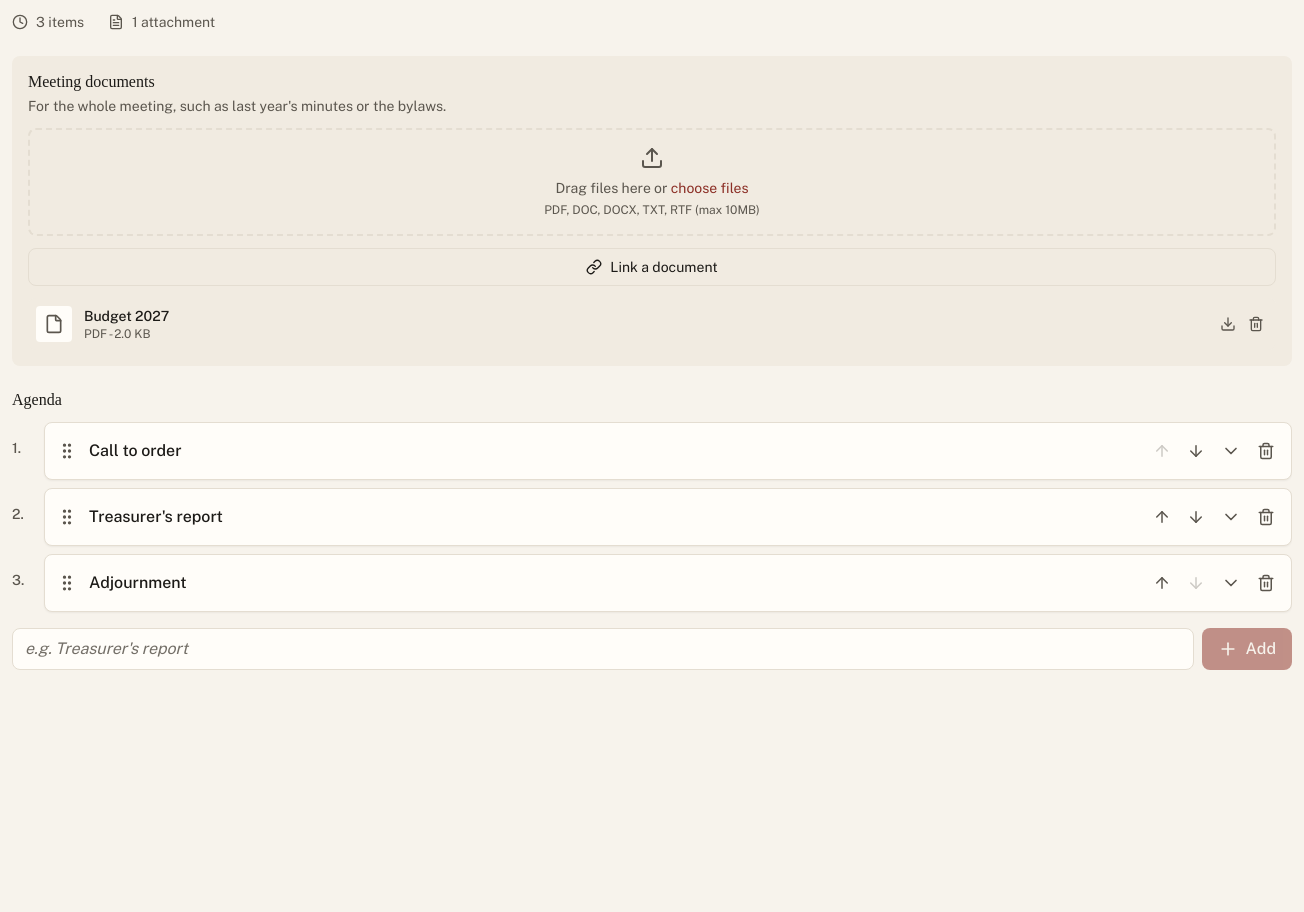
PacketBuilder › puts back only the refused move, keeping a rename saved meanwhile
Click the button named "Move Adjournment up": (1162, 583) x1=1149 y1=570 x2=1175 y2=596
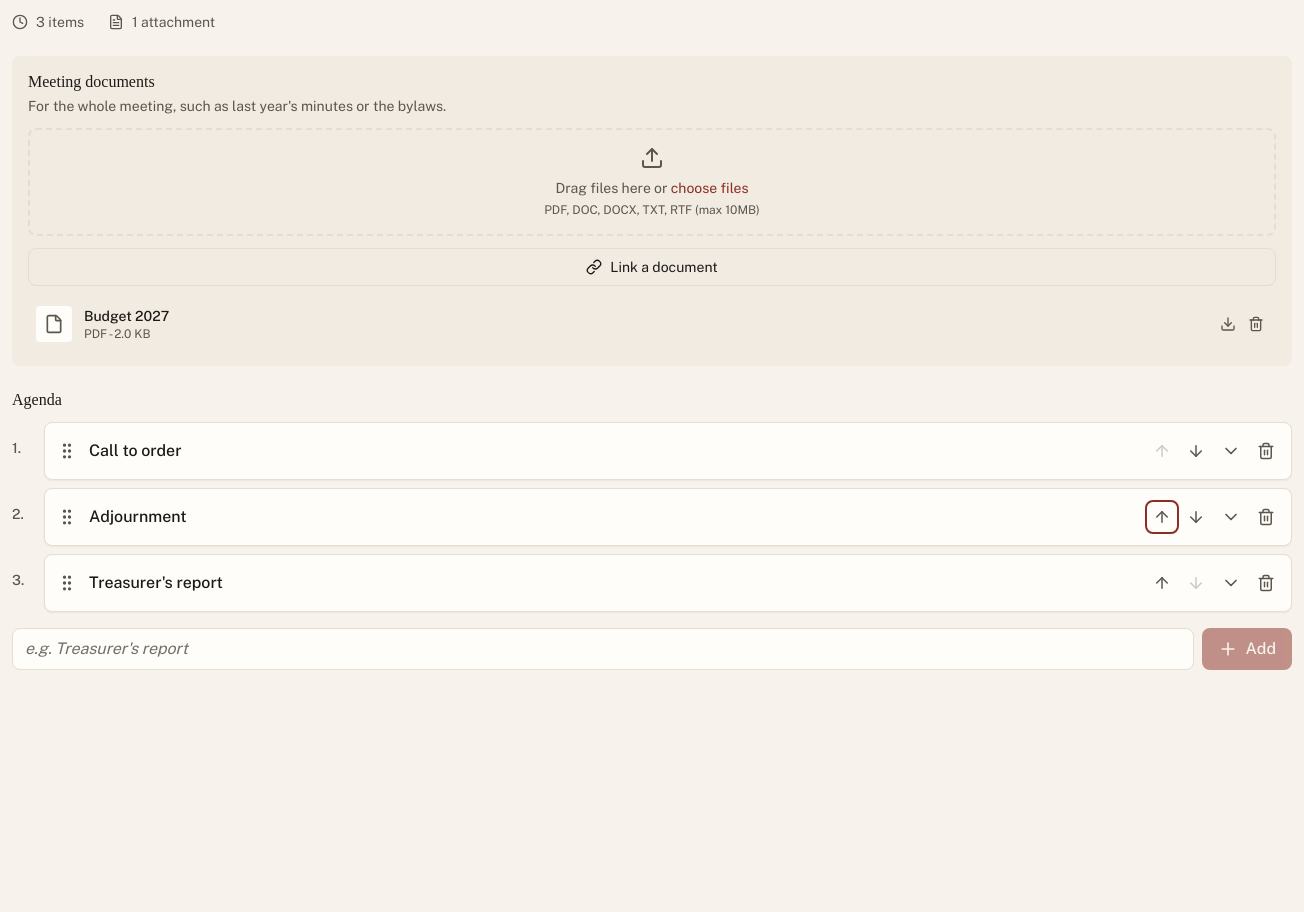
Replace the text in the field named "Agenda item 1" with "Opening": (609, 451) x1=85 y1=435 x2=1133 y2=467
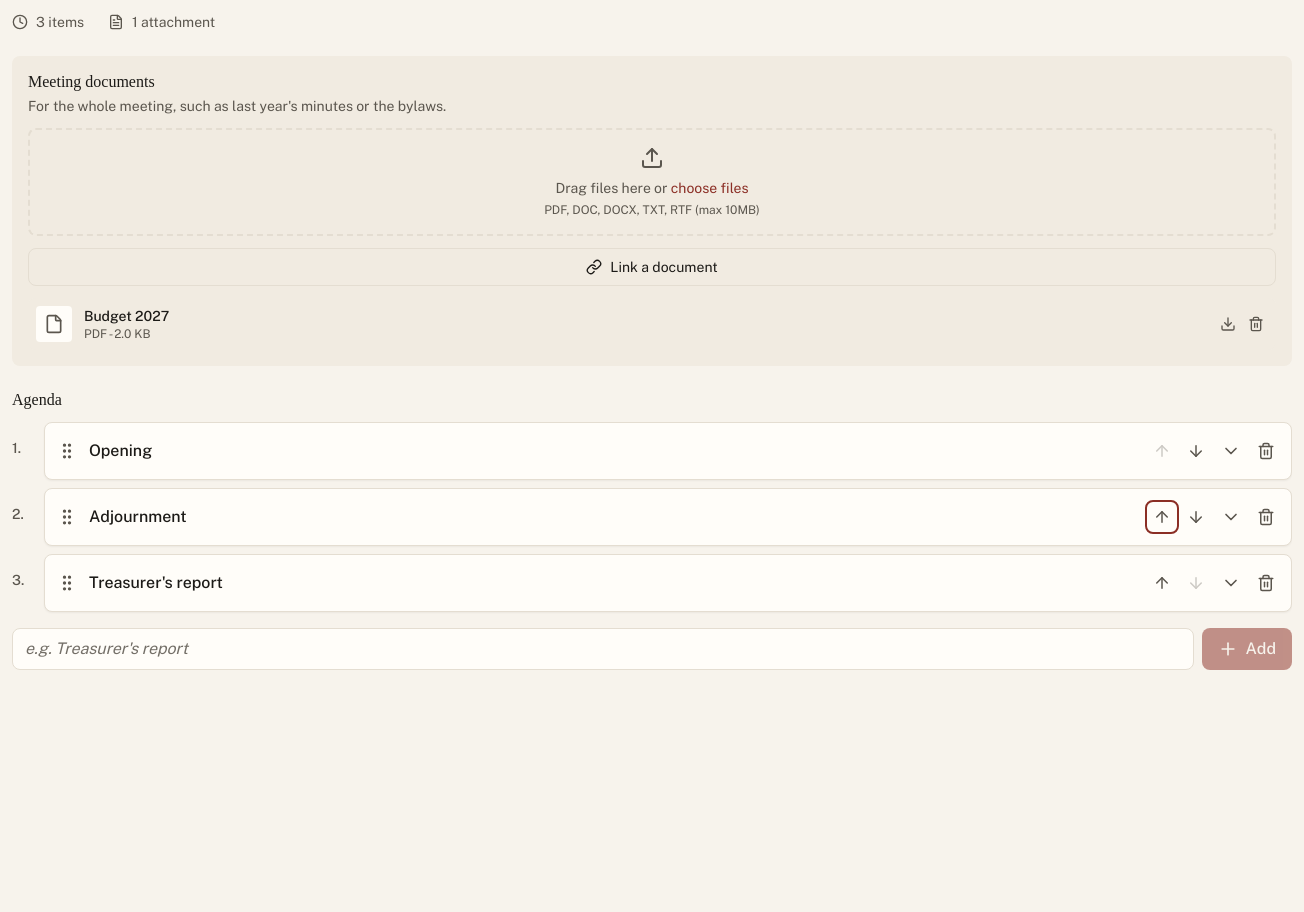
Leave the field named "Agenda item 1", box x1=85 y1=435 x2=1133 y2=467
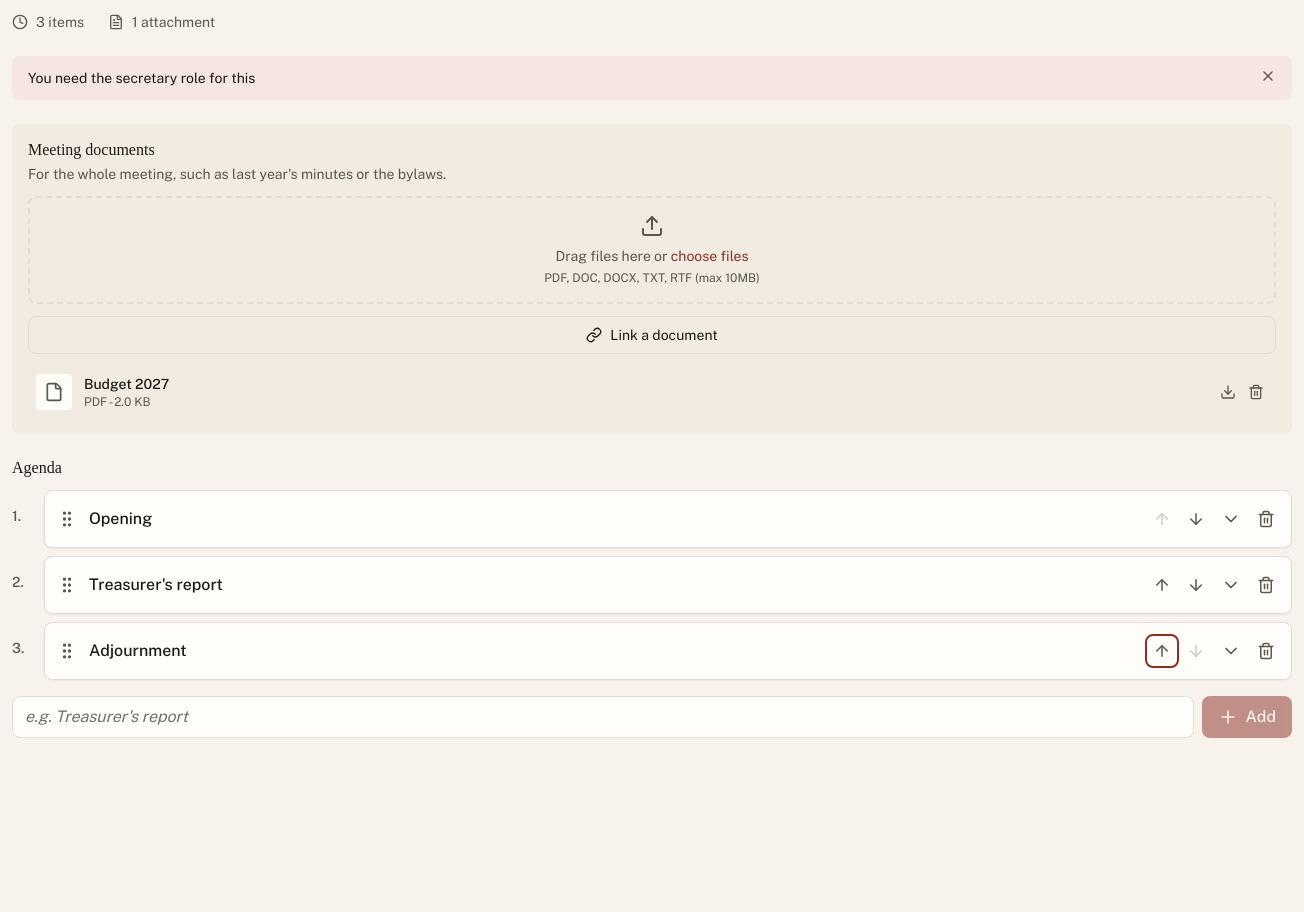
Now the message reads "You need the secretary role for this", box x1=28 y1=70 x2=255 y2=86
